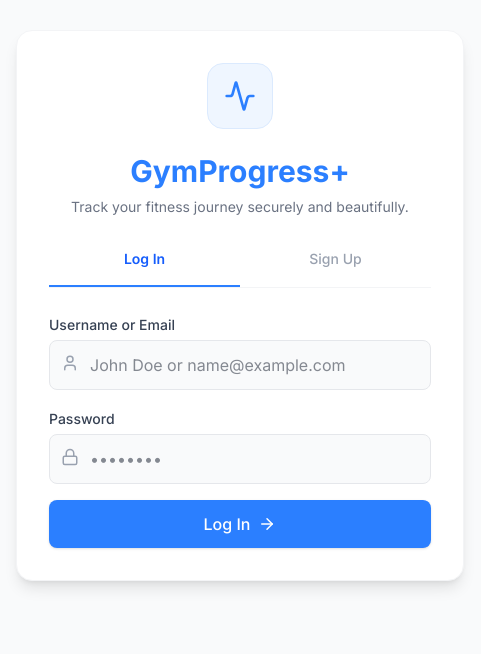
Login Page DOM Tests › switches to signup form when clicking Sign Up tab
// Click the Sign Up tab
Click the button "Sign Up" at (336, 268), box top-left (240, 248), bottom-right (431, 286)
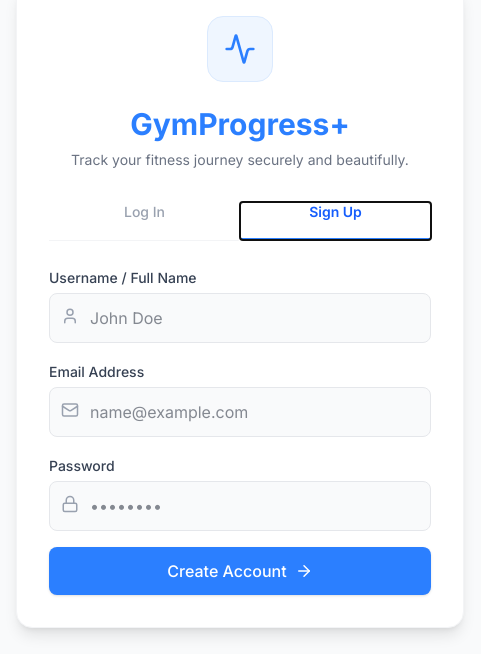
Expected: the field with placeholder "John Doe" is shown, top-left (49, 292), bottom-right (431, 342)
Now the field with placeholder "name@example.com" is shown, box top-left (49, 386), bottom-right (431, 436)
Now the button "Create Account" is shown, box top-left (49, 546), bottom-right (431, 594)
